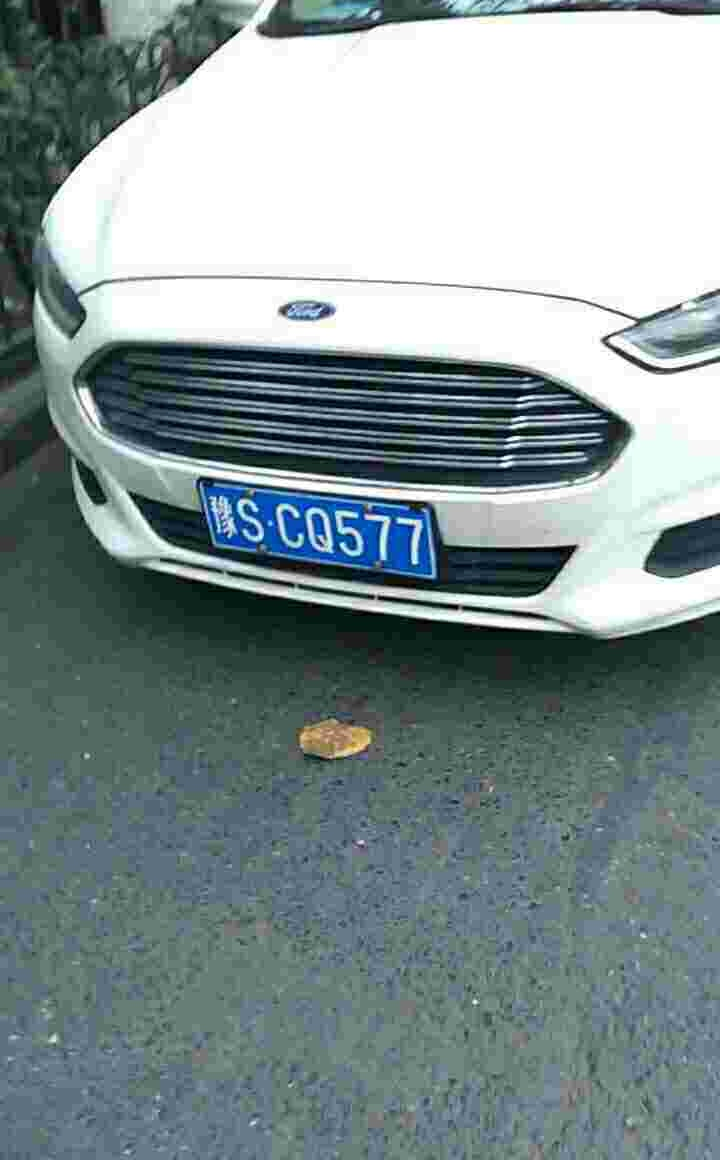car: (194, 471, 439, 579)
